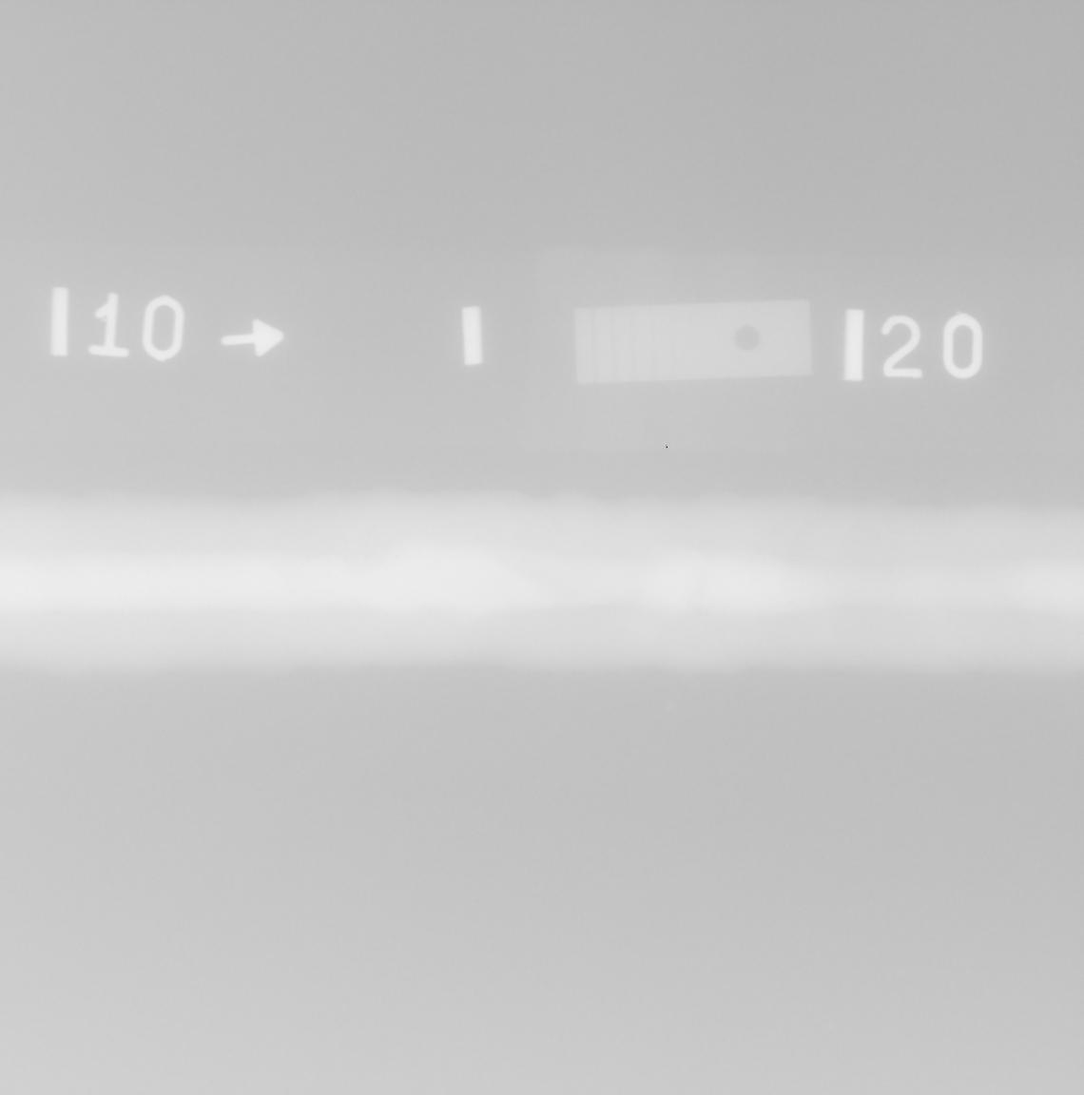Reference Standard 1: (575, 299, 813, 385)
